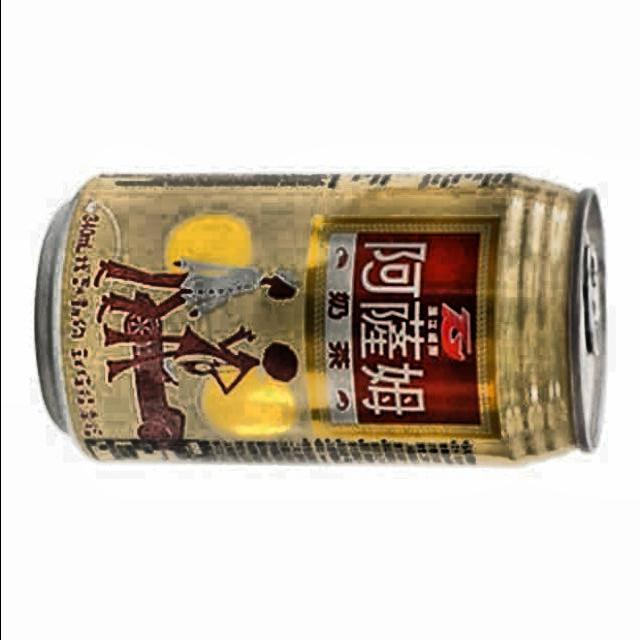litter: (27, 165, 614, 480)
